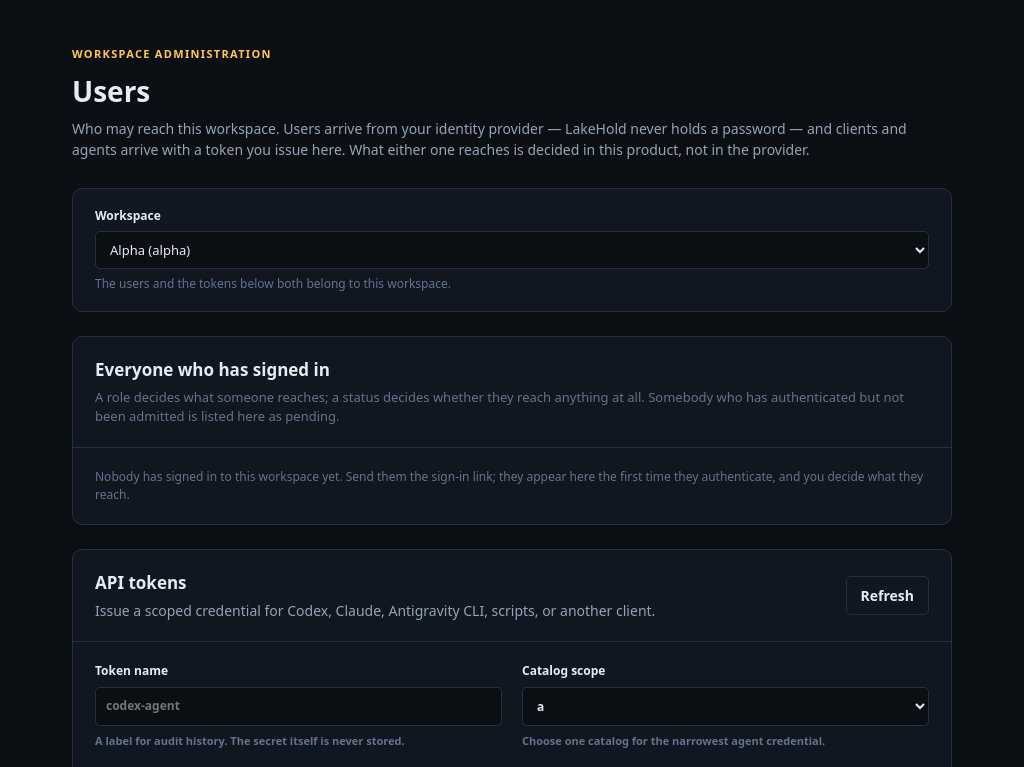
Test: UsersComponent › narrows a credential to a catalog of the workspace now selected
Step 1. Select "Beta (beta)" in the dropdown named "workspace" → point(512, 250), box [95, 231, 929, 269]
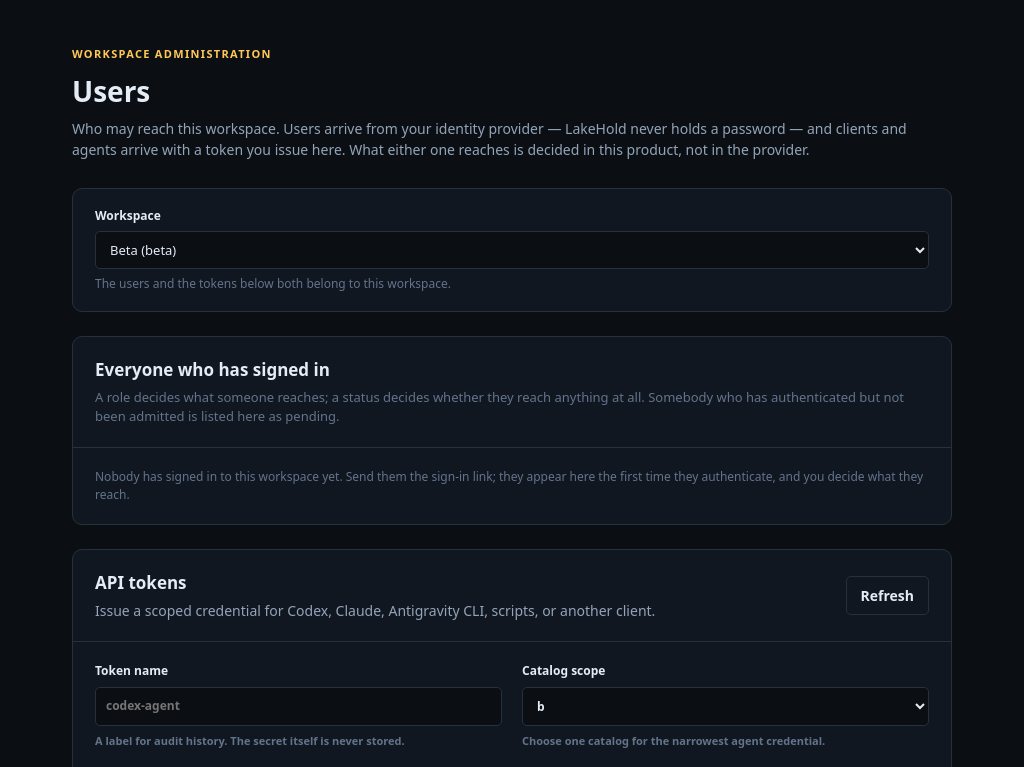
expect the dropdown named "catalog" shows "b": met, box [522, 687, 929, 726]
